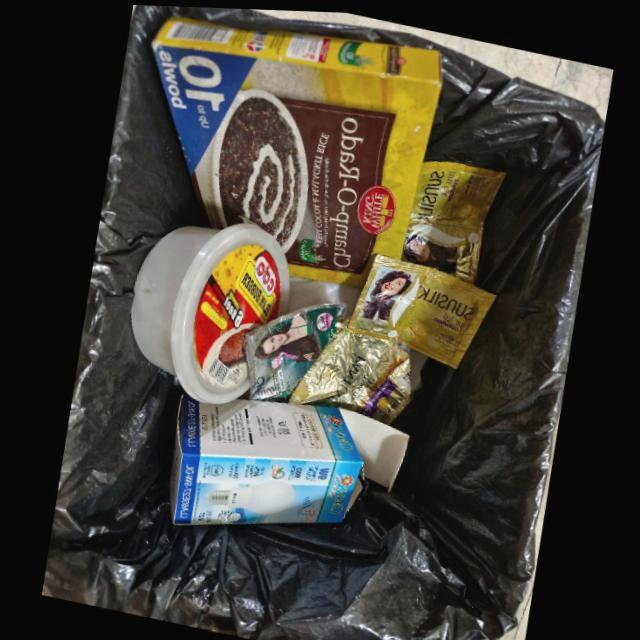cardboard: (151, 13, 442, 284), (168, 390, 407, 523)
plastic_container: (128, 219, 288, 402)
plastic_sachet: (344, 250, 495, 364), (286, 314, 410, 422), (399, 156, 506, 280), (242, 299, 346, 400)
